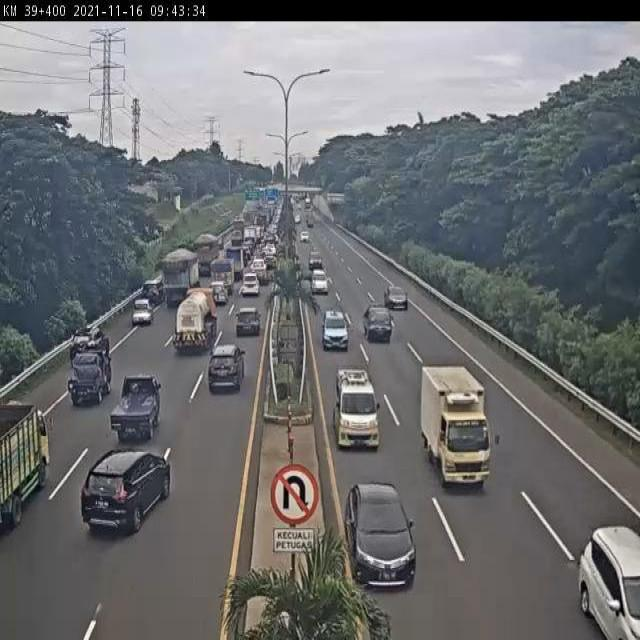car: (80, 449, 172, 540), (343, 484, 418, 591), (332, 369, 382, 454), (112, 375, 166, 441), (63, 352, 110, 412), (206, 342, 246, 394), (61, 328, 103, 375), (363, 305, 395, 344), (321, 309, 349, 351), (233, 304, 263, 339), (136, 281, 165, 307), (129, 300, 155, 329), (385, 281, 409, 311), (241, 272, 263, 300), (208, 281, 229, 308), (310, 268, 330, 295)
small truck: (420, 366, 499, 498)
truck-l-: (159, 249, 200, 311)
truck-m-: (0, 399, 51, 529), (170, 284, 219, 355)
